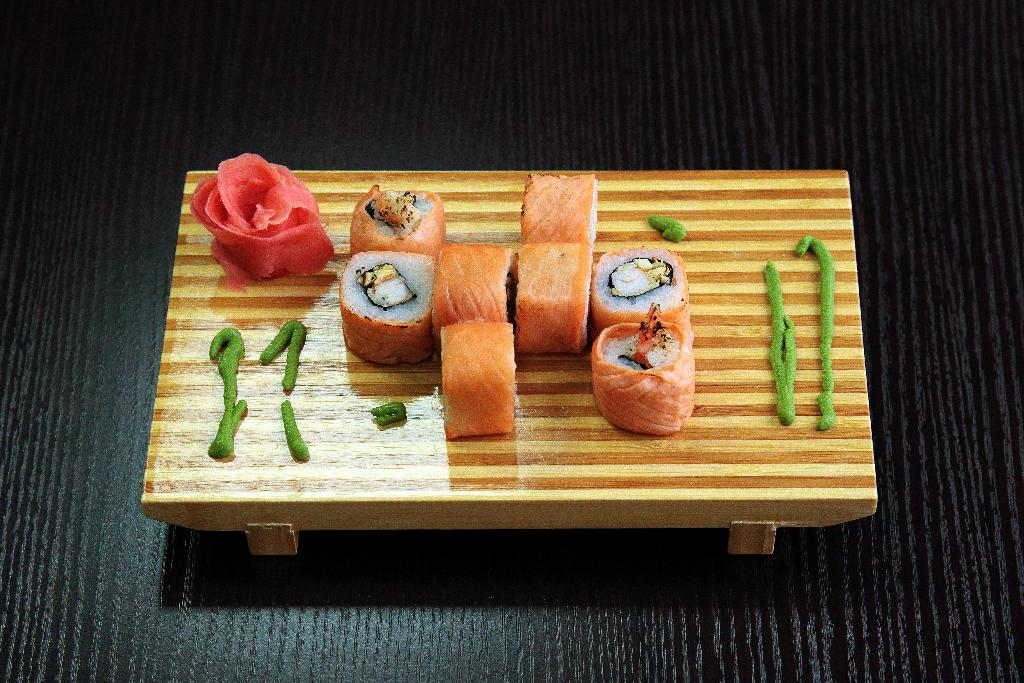sushi: (342, 169, 692, 438), (343, 256, 429, 334)
